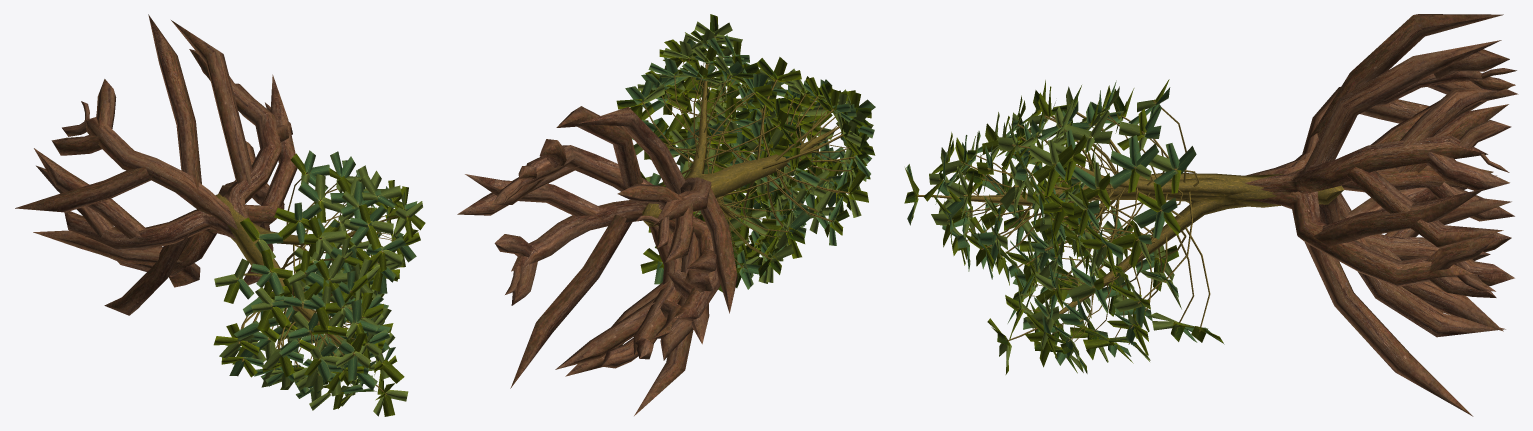
File: mangrovetree.obj
3 views of the same model, side by side, from view 1: azimuth 30°, elevation 25°; view 2: azimuth 150°, elevation 25°; view 3: azimuth 270°, elevation 25° (orthographic). The views are drawn at different scales.
Parts seen in each view (by area): view 1: mangrovetree; view 2: mangrovetree; view 3: mangrovetree.
Boxes of the visible parts, x1,y1,x2,y2 form: mangrovetree: (15,14,425,416); mangrovetree: (457,14,875,415); mangrovetree: (904,14,1518,416).
Bounding box in the file's own units: 1.7 × 1.78 × 2.79.
6 materials, 6 textured.
